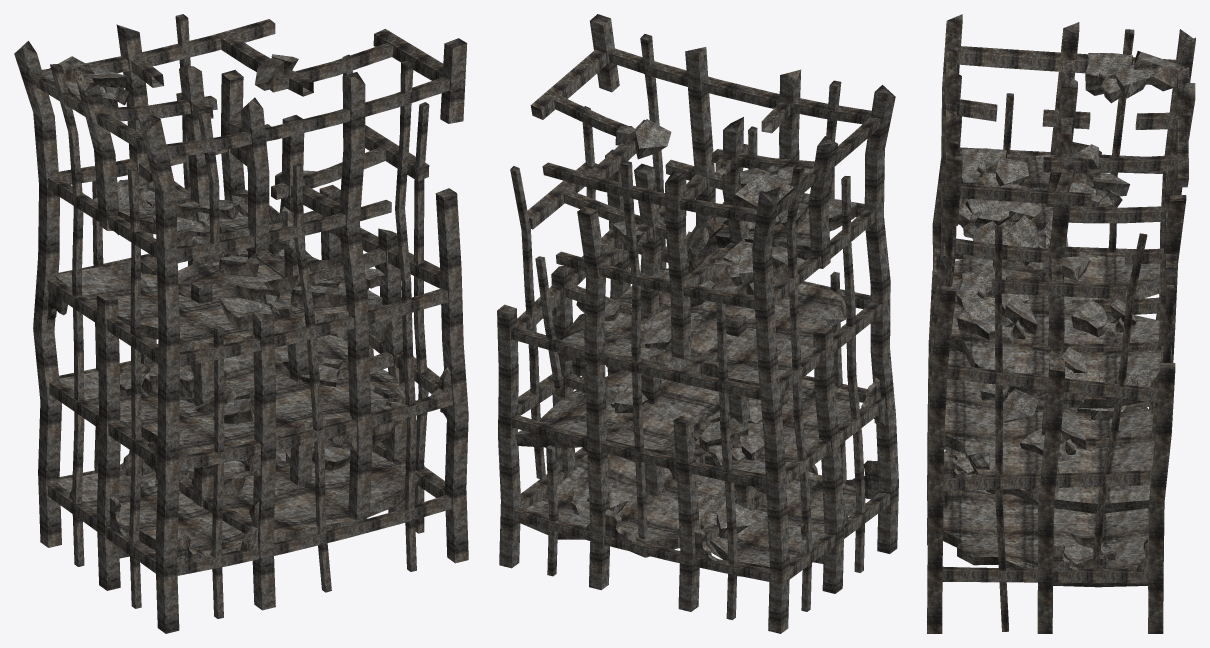
The model's file is SkeletalBuilding.fbx.
3 renders of one model, left to right at view 1: azimuth 30°, elevation 25°; view 2: azimuth 150°, elevation 25°; view 3: azimuth 270°, elevation 25°, orthographic. The views are drawn at different scales.
Parts seen in each view (by area): view 1: SMO_BG50_BUILD_UTZ_Set04; view 2: SMO_BG50_BUILD_UTZ_Set04; view 3: SMO_BG50_BUILD_UTZ_Set04.
Part boxes in pixels (<box>): SMO_BG50_BUILD_UTZ_Set04: <box>14,14,468,633</box>; SMO_BG50_BUILD_UTZ_Set04: <box>497,14,898,633</box>; SMO_BG50_BUILD_UTZ_Set04: <box>927,14,1195,633</box>.
Size of the model in its own units: 13234 by 19993 by 10199.
